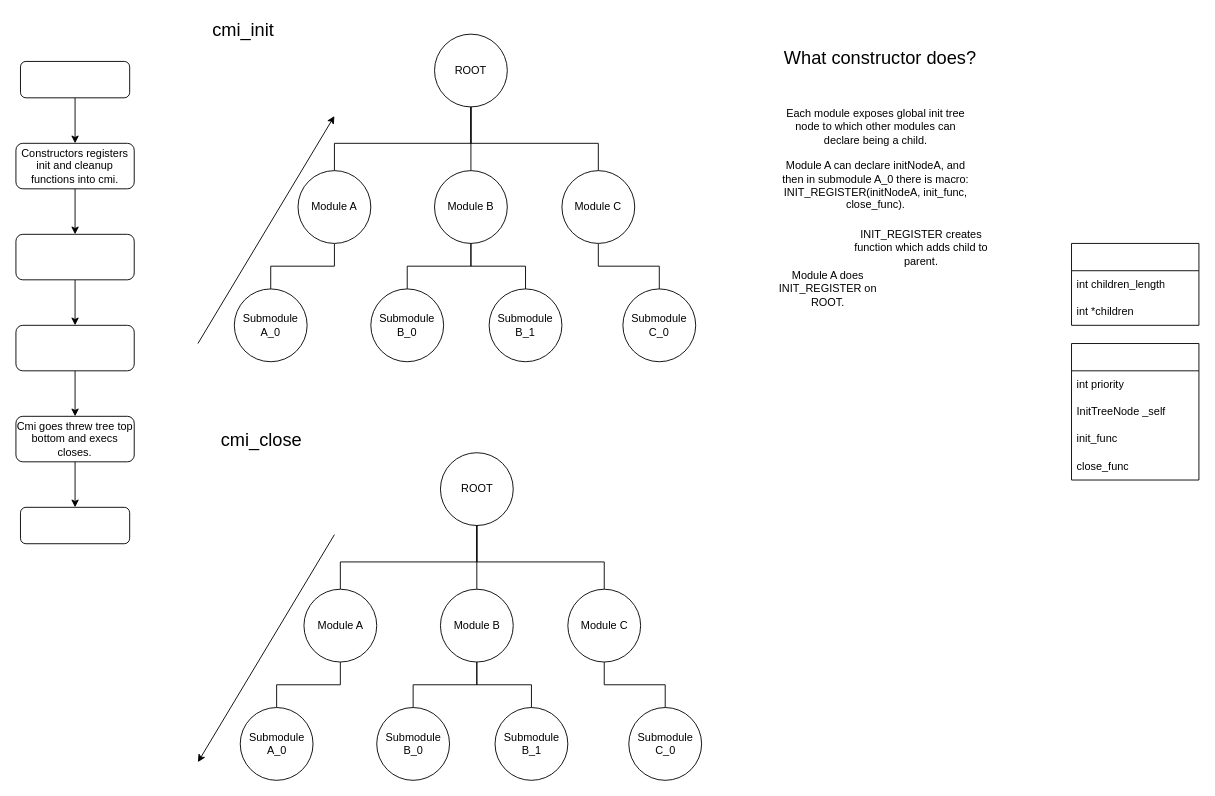
This 1215x796 diagram has some shape labels left out. The box of each missing label's shape, as (x1, y1, x2, y2) in pixels:
App runs.: (15, 324, 134, 371)
Cmi goes threw tree bottom up and execs inits.: (15, 233, 134, 280)
InitModule: (1071, 343, 1199, 480)
InitTreeNode: (1071, 243, 1199, 325)
Program is finished.: (20, 506, 130, 544)
Program is started.: (20, 61, 130, 98)
